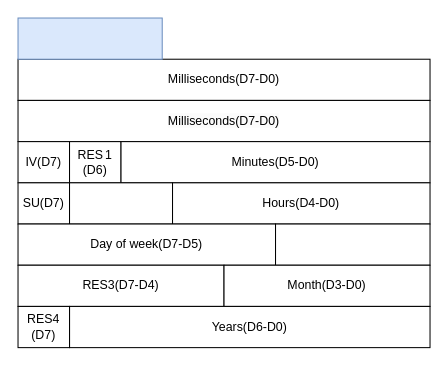
This 448x366 diagram has some shape labels left out. Each missing label, with the centre of its shape:
"CP56Time2a" goes at point (89, 38).
"Day of Month(D3-D0)" goes at point (352, 244).
"RES2 (D6-D5)" goes at point (120, 203).
